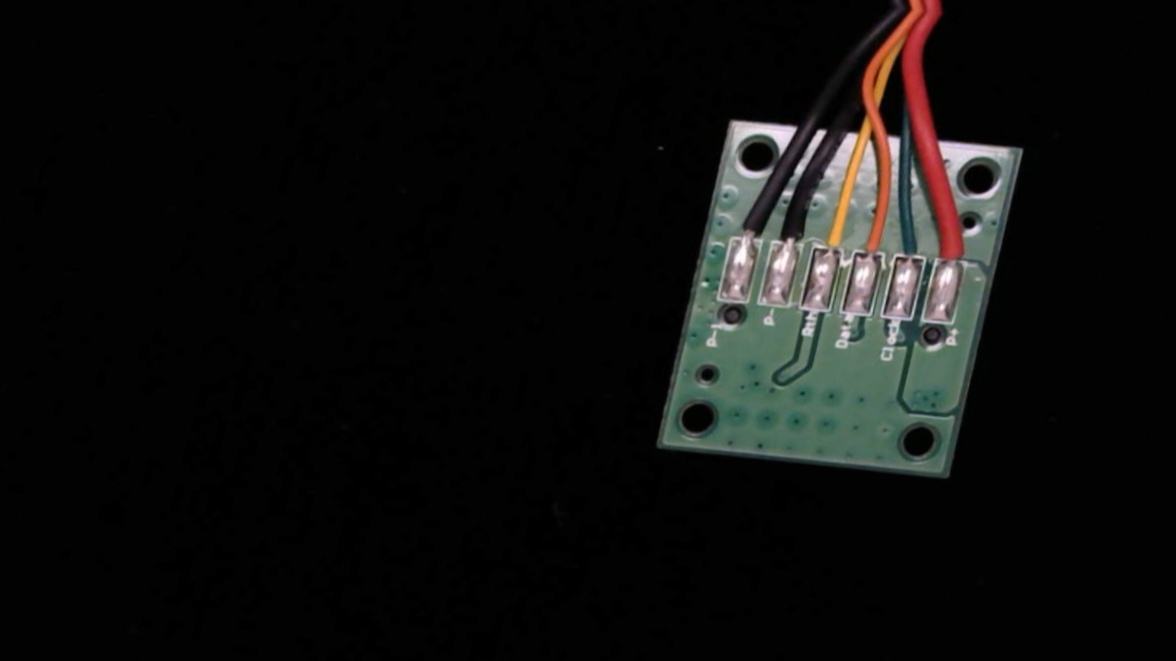Black: (764, 199, 814, 263)
Black1: (721, 190, 774, 261)
Green: (891, 213, 934, 275)
Orange: (848, 206, 896, 272)
Red: (927, 207, 981, 281)
Yellow: (805, 190, 860, 268)
